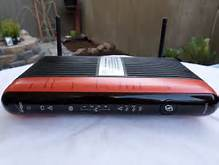Verizon Router: (4, 16, 219, 125)
